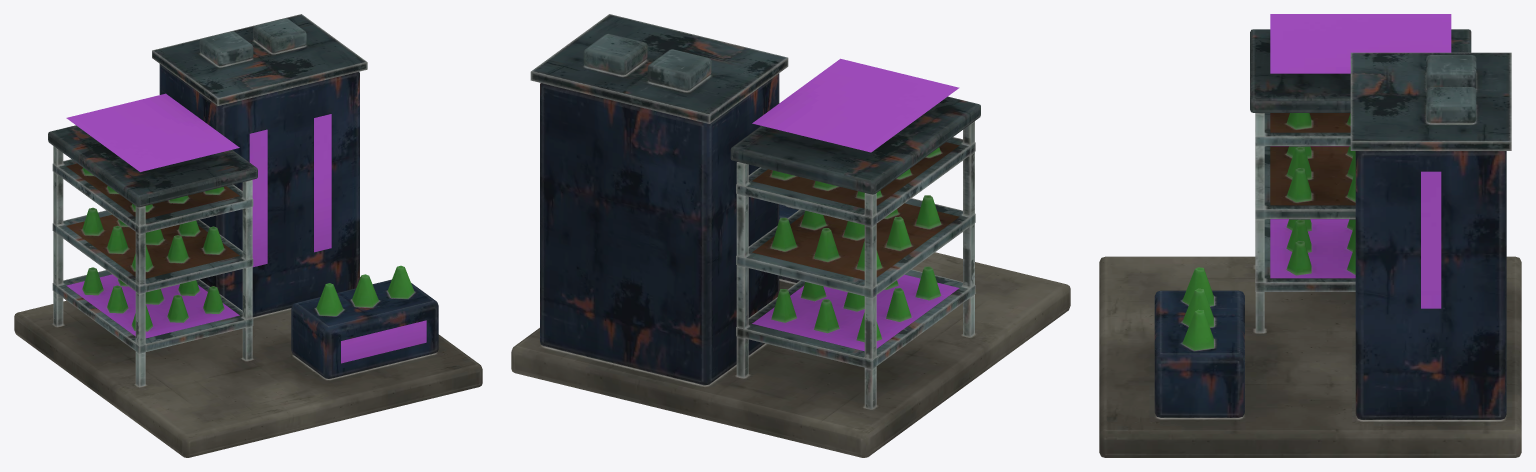
File: hydroponic_bay.glb
3 renders of one model, left to right at view 1: azimuth 30°, elevation 25°; view 2: azimuth 150°, elevation 25°; view 3: azimuth 270°, elevation 25°, orthographic. The views are drawn at different scales.
Parts seen in each view (by area): view 1: te_hydroponic_bay; view 2: te_hydroponic_bay; view 3: te_hydroponic_bay.
Boxes of the visible parts, x1,y1,x2,y2 form: te_hydroponic_bay: (14, 14, 482, 457); te_hydroponic_bay: (511, 14, 1070, 457); te_hydroponic_bay: (1099, 14, 1521, 457).
Bounding box in the file's own units: 0.84 × 0.72 × 0.84.
Materials: 1 (1 with a texture image).
